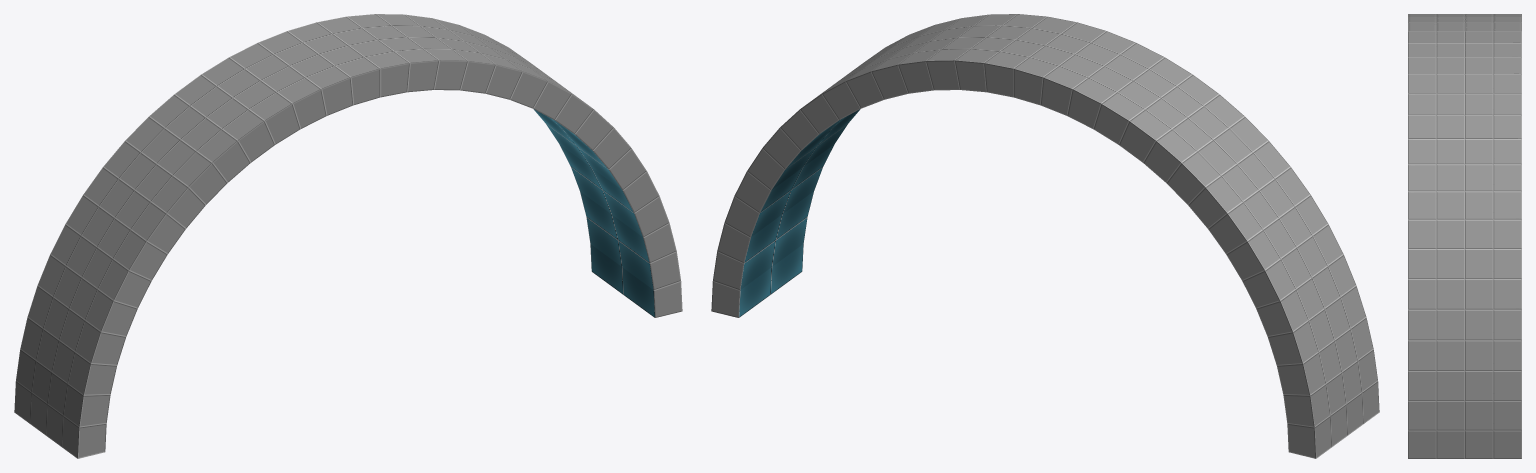
File: RevealingTheGemCurve1.obj
3 renders of one model, left to right at view 1: azimuth 30°, elevation 25°; view 2: azimuth 150°, elevation 25°; view 3: azimuth 270°, elevation 25°, orthographic. The views are drawn at different scales.
Parts seen in each view (by area): view 1: RevealingTheGemCurve1; view 2: RevealingTheGemCurve1; view 3: RevealingTheGemCurve1.
Part boxes in pixels (x1,y1,x2,y2): RevealingTheGemCurve1: (14, 14, 682, 458); RevealingTheGemCurve1: (711, 14, 1379, 458); RevealingTheGemCurve1: (1408, 14, 1521, 458).
Bounding box in the file's own units: 22 × 11 × 4.
